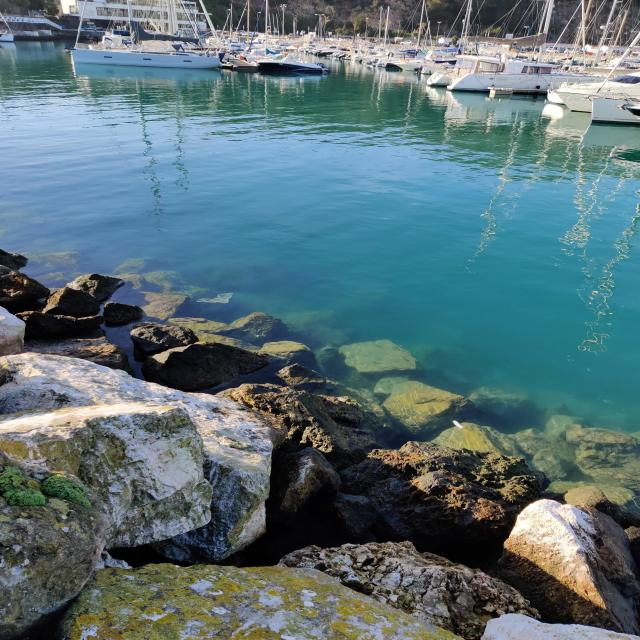litter: (194, 290, 237, 306), (226, 56, 231, 63)
